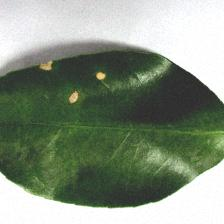canker: (34, 54, 112, 109)
